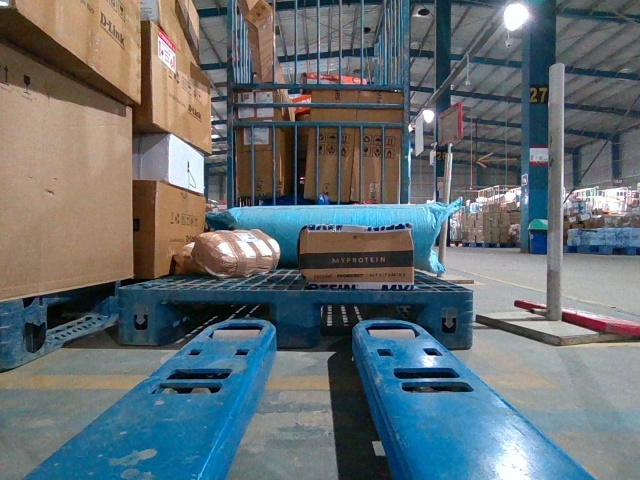block: (112, 287, 162, 347), (270, 291, 321, 348), (430, 291, 471, 353)
front: (117, 289, 473, 347)
hole pallet: (157, 298, 276, 349), (321, 300, 429, 349)
